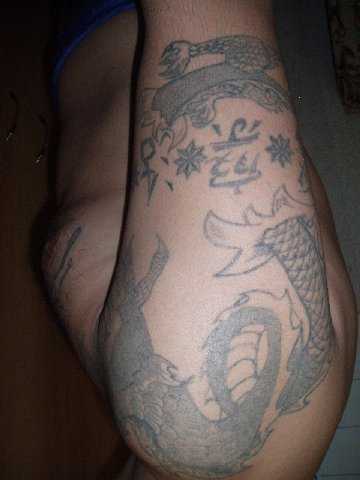tatu6_drakon: (98, 25, 337, 468)
